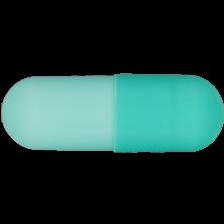16590-076: (0, 0, 224, 224)
